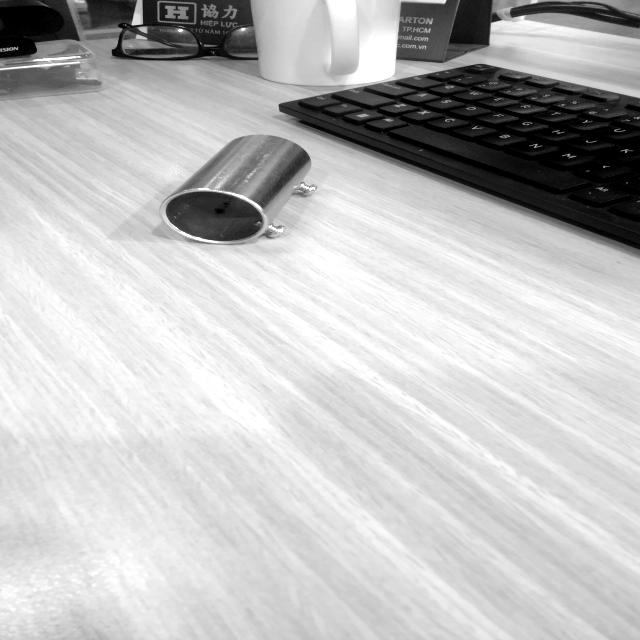Co_Lon: (147, 110, 337, 284)
